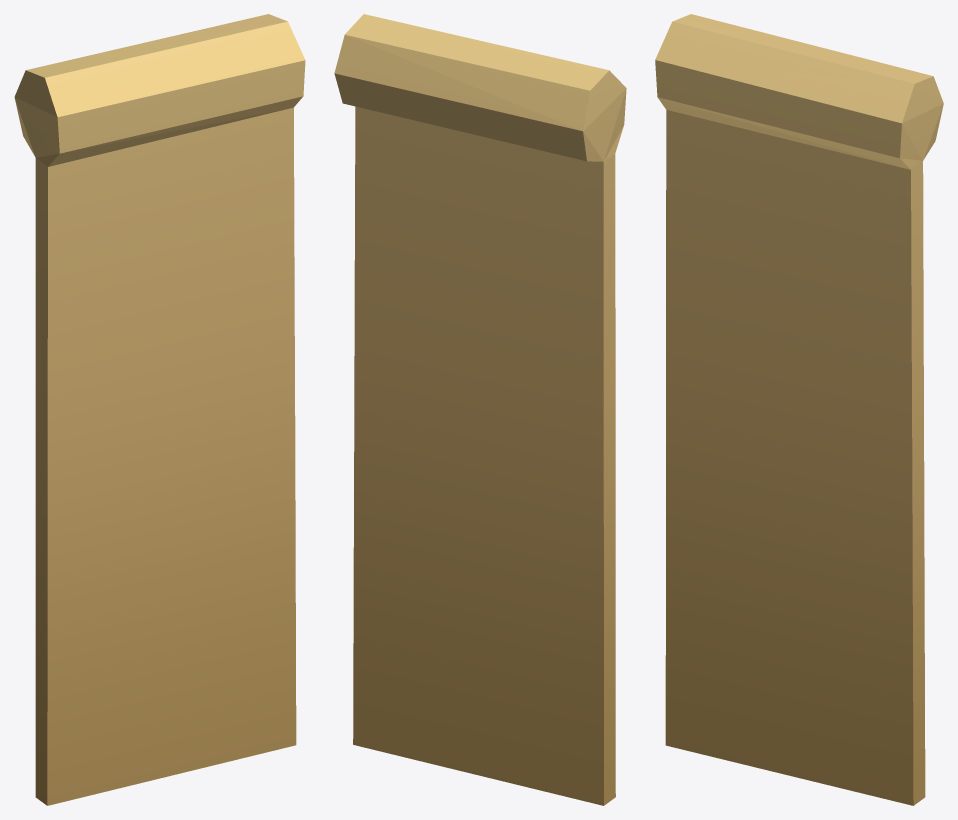
Rendered from MarketStall_Flag_Blank_Yellow.gltf.
3 views of the same model, side by side, from view 1: azimuth 30°, elevation 25°; view 2: azimuth 150°, elevation 25°; view 3: azimuth 330°, elevation 25° (orthographic).
Parts seen in each view (by area): view 1: MarketStall_Flag_Blank_Yellow; view 2: MarketStall_Flag_Blank_Yellow; view 3: MarketStall_Flag_Blank_Yellow.
Boxes of the visible parts, left/top/right/bottom form: MarketStall_Flag_Blank_Yellow: left=14, top=14, right=305, bottom=805; MarketStall_Flag_Blank_Yellow: left=334, top=14, right=626, bottom=805; MarketStall_Flag_Blank_Yellow: left=655, top=14, right=943, bottom=805.
Size of the model in its own units: 0.3827 by 1.06 by 0.1149.
1 material, 1 textured.
